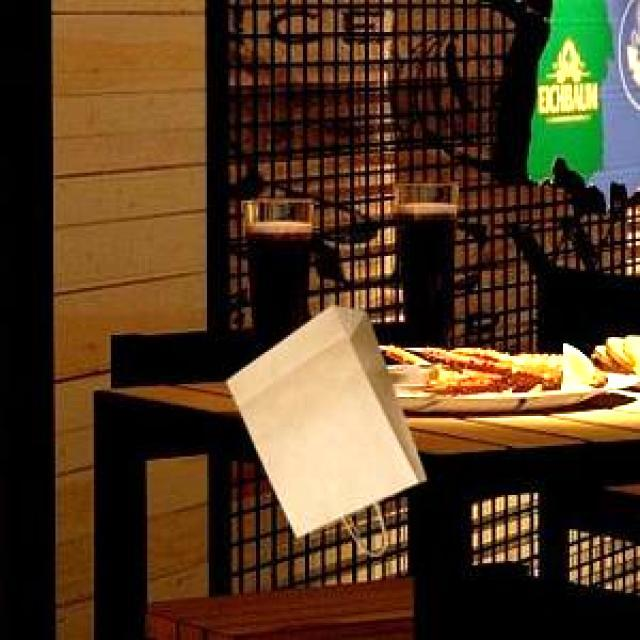Paper_Bag: (226, 302, 424, 534)
